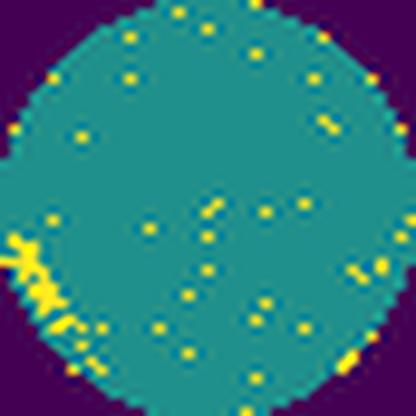Loc: (1, 233, 70, 317)
